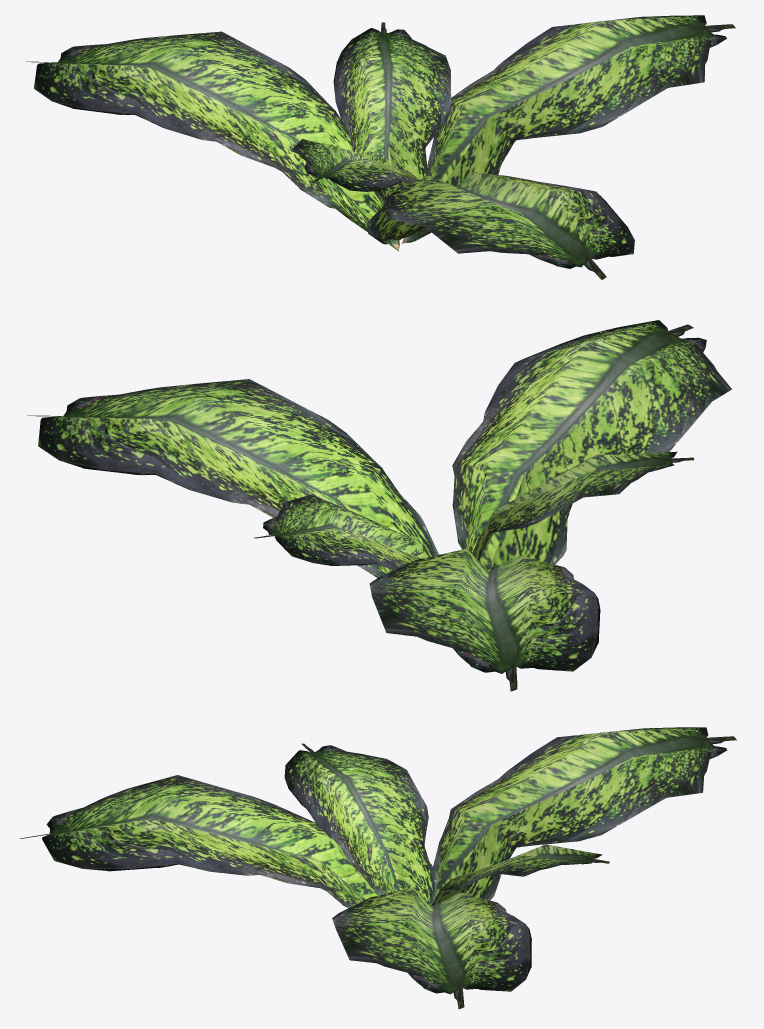
Rendered from bush2_2s.fbx.
3 renders of one model, top to bottom at view 1: azimuth 30°, elevation 25°; view 2: azimuth 150°, elevation 25°; view 3: azimuth 270°, elevation 25°, orthographic. The views are drawn at different scales.
Parts seen in each view (by area): view 1: MDL-Camera_Root; view 2: MDL-Camera_Root; view 3: MDL-Camera_Root.
Boxes of the visible parts, left/top/right/bottom form: MDL-Camera_Root: left=26, top=15, right=735, bottom=279; MDL-Camera_Root: left=27, top=320, right=731, bottom=691; MDL-Camera_Root: left=20, top=727, right=736, bottom=1009.
Size of the model in its own units: 365 by 85.17 by 392.
